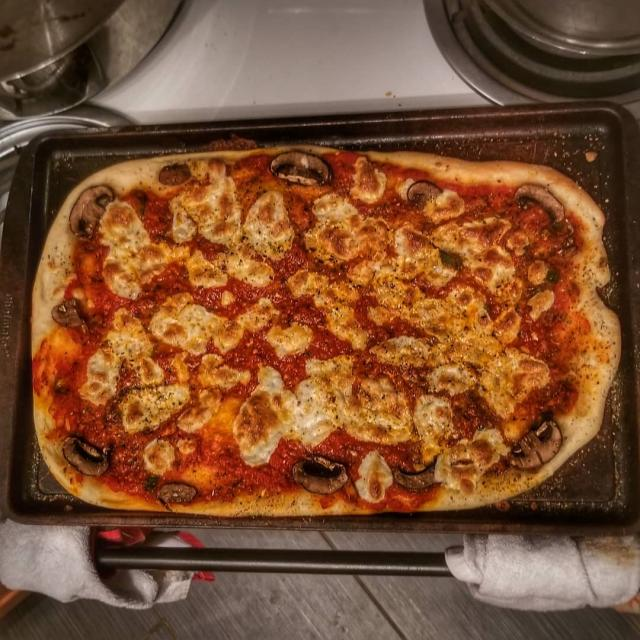mushrooms: (504, 412, 571, 475), (289, 448, 350, 498), (509, 179, 570, 226), (268, 148, 335, 190), (65, 184, 117, 238), (60, 430, 116, 480), (143, 472, 203, 514), (389, 457, 448, 495), (50, 295, 84, 331), (404, 174, 444, 204), (156, 162, 193, 186)
pizza: (33, 146, 620, 516)
